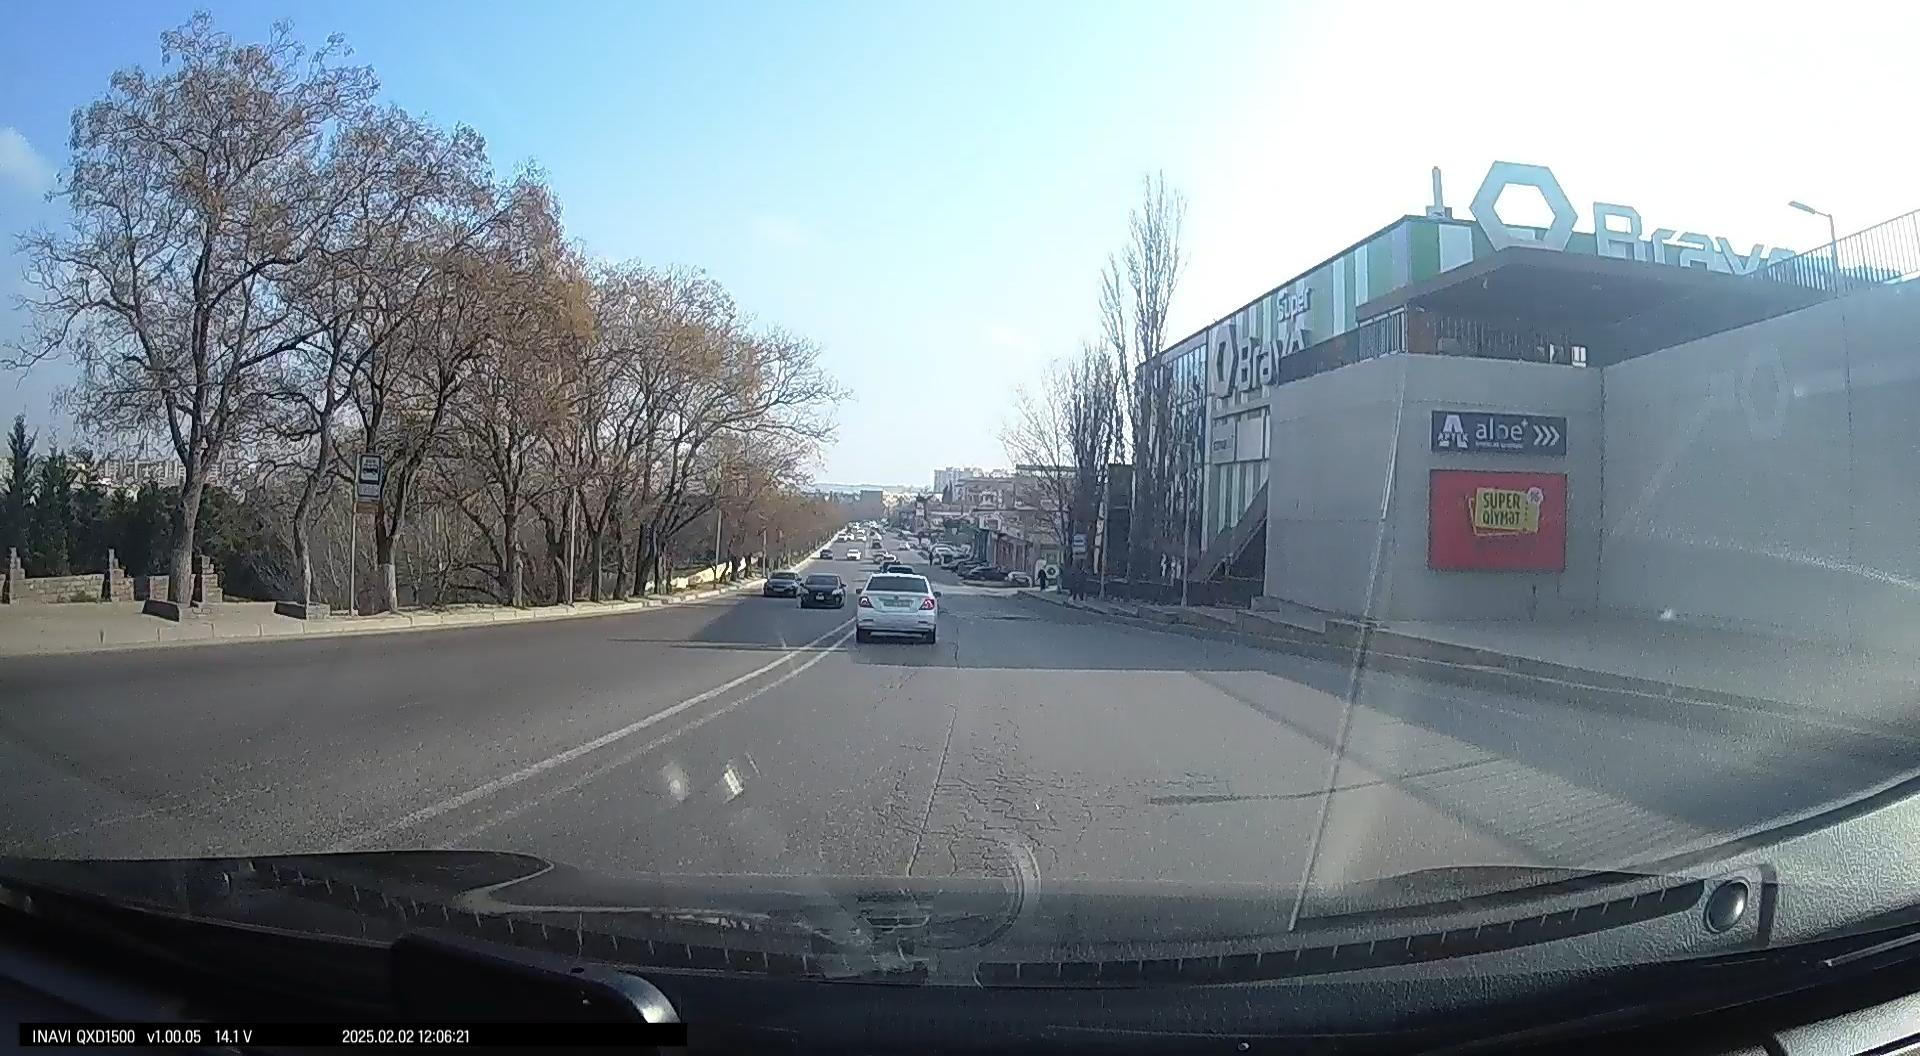banner: (1430, 468, 1566, 575), (1429, 408, 1572, 458)
